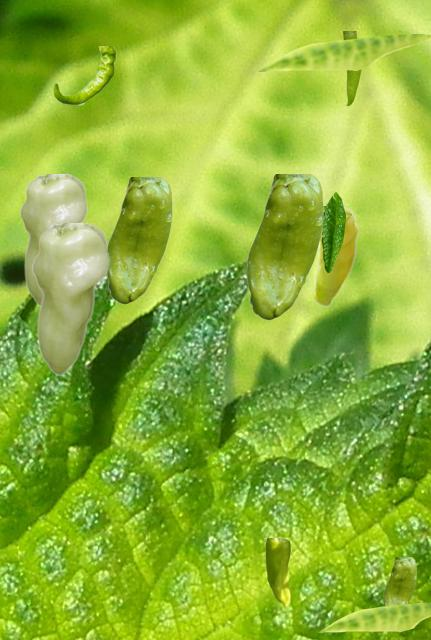green_chili: (31, 223, 108, 374), (246, 174, 322, 319), (19, 174, 86, 306), (106, 177, 171, 303), (312, 206, 358, 306), (53, 46, 115, 104), (264, 538, 289, 606), (383, 557, 415, 605), (342, 31, 360, 105)
